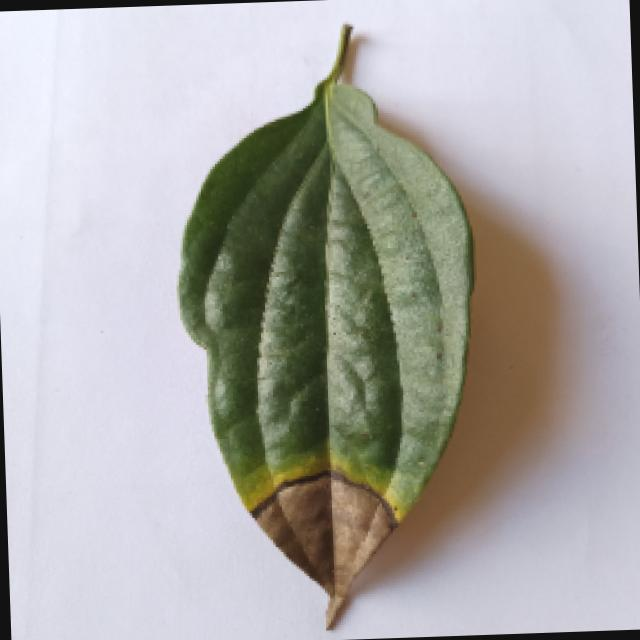footrot: (55, 20, 566, 639)
